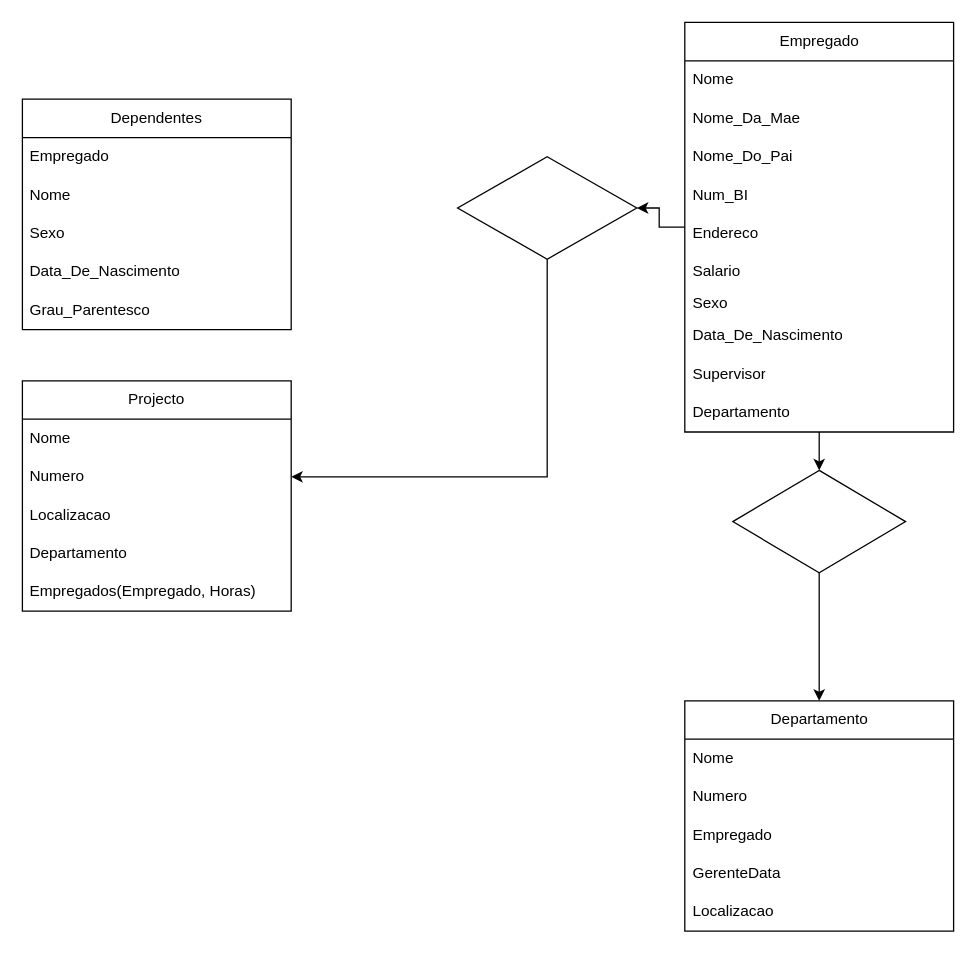
The diagram is 977 pixels wide and 954 high, and some of its shapes have lost their labels. Here are the shapes that lost their labels. From the top down, the centre of each, then its label:
At pixel 546 207: "Trabalha".
At pixel 819 521: "Pertence".
